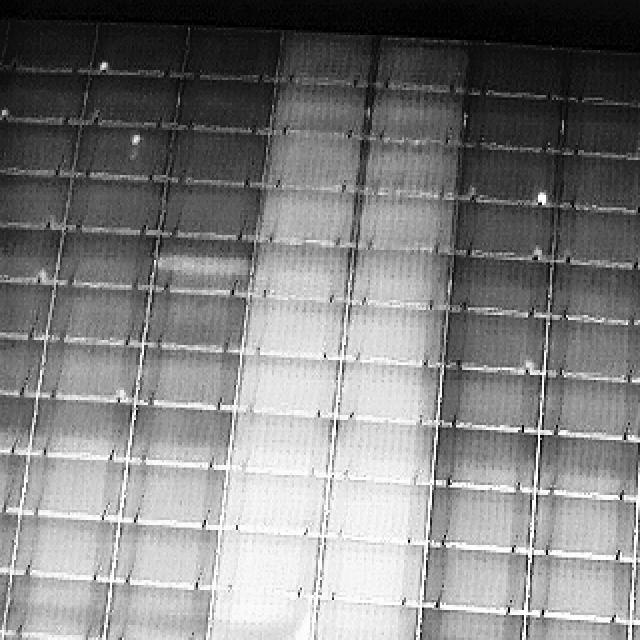Hotspots: (28, 267, 52, 286), (91, 442, 116, 460), (110, 381, 133, 400), (529, 190, 553, 208), (88, 58, 112, 76), (125, 132, 145, 148), (632, 140, 640, 158)
PV-modules: (523, 550, 633, 624), (213, 525, 323, 598), (421, 542, 532, 614), (314, 534, 424, 606), (17, 450, 126, 522), (114, 460, 226, 530), (429, 481, 538, 552), (335, 301, 445, 371), (434, 365, 544, 435), (2, 570, 112, 640), (526, 495, 634, 566), (13, 513, 121, 584), (327, 413, 434, 484), (440, 310, 550, 379), (532, 432, 640, 502), (330, 360, 440, 428), (320, 476, 430, 544), (226, 408, 334, 476), (221, 469, 330, 536), (536, 315, 640, 385), (143, 291, 250, 359), (534, 375, 640, 443), (246, 240, 352, 308), (34, 336, 141, 403), (29, 397, 137, 463), (444, 251, 552, 317), (134, 343, 243, 408), (434, 426, 541, 492), (113, 524, 219, 590), (232, 351, 338, 417), (130, 404, 236, 470), (348, 248, 453, 314), (448, 196, 554, 261), (242, 294, 345, 360), (50, 228, 156, 292), (102, 580, 214, 640), (260, 126, 360, 193), (157, 179, 265, 241), (454, 144, 557, 209), (542, 257, 640, 325), (355, 192, 457, 256), (45, 284, 147, 348), (361, 136, 462, 200), (365, 85, 465, 149), (546, 200, 640, 268), (65, 176, 168, 238), (457, 43, 568, 100), (152, 233, 257, 293), (206, 582, 314, 640), (270, 80, 372, 140), (164, 125, 267, 184), (256, 190, 357, 250), (459, 94, 563, 152), (172, 78, 274, 135), (276, 30, 379, 86), (552, 155, 640, 220), (70, 121, 172, 177), (178, 29, 280, 84), (371, 38, 467, 96), (2, 16, 99, 73), (82, 72, 180, 126), (306, 595, 420, 640), (558, 98, 640, 160), (0, 64, 87, 122), (95, 24, 188, 78), (562, 45, 640, 107), (1, 120, 82, 177), (412, 605, 524, 640), (0, 172, 66, 230), (0, 221, 57, 283), (520, 610, 632, 640), (0, 282, 47, 343), (0, 334, 43, 398), (0, 395, 36, 457), (1, 448, 23, 515), (0, 508, 16, 578), (628, 558, 640, 628), (632, 502, 640, 570), (636, 440, 640, 512), (626, 620, 640, 640)
